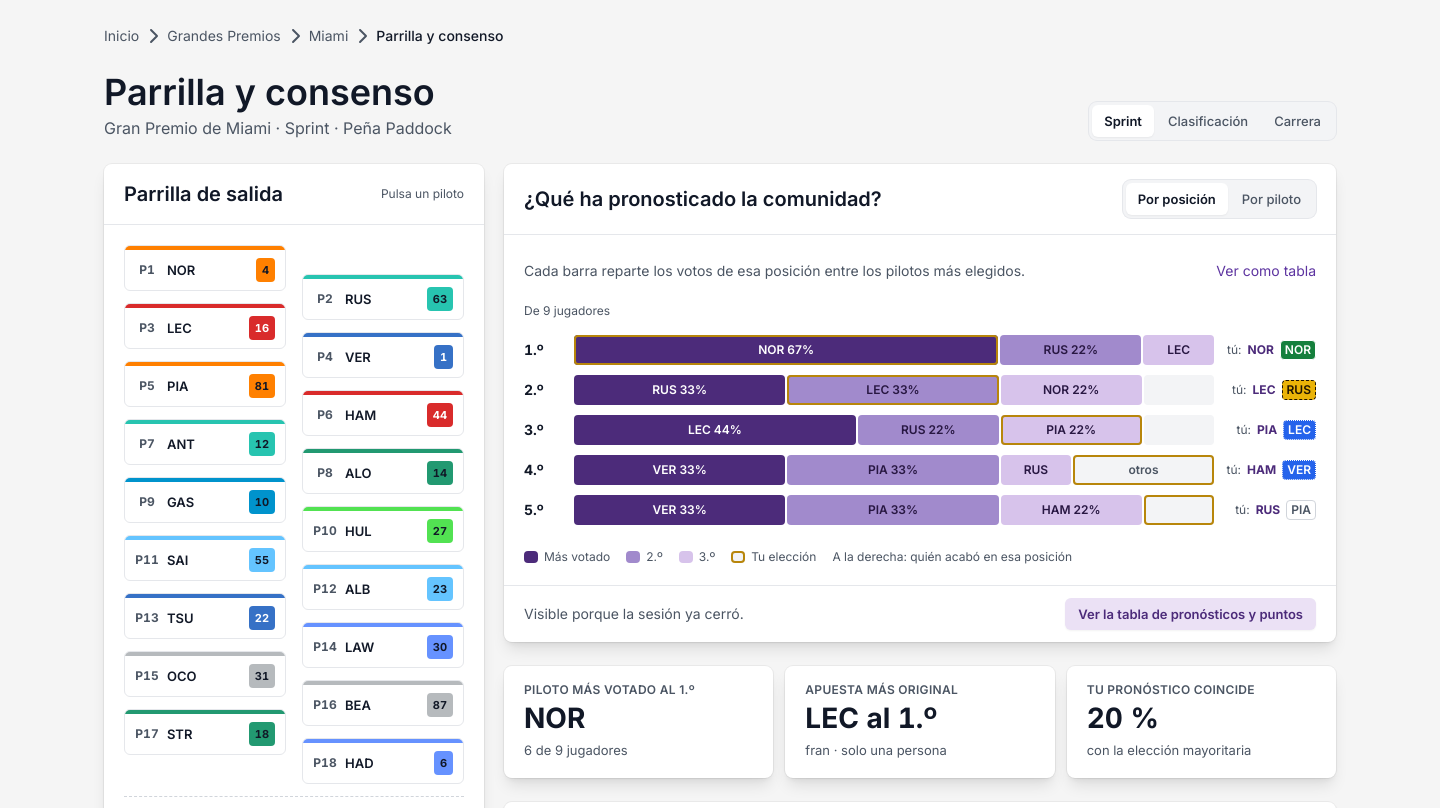
it: Parrilla y consenso (G4) › «Por piloto» defaults to the winner of the session
The width and height of the screenshot is (1440, 808).
Expected: the button with aria-label "P1 Lando Norris" is shown, [124,245,286,291]
Click the button "Por piloto".
click(1271, 199)  # box [1230,183,1313,215]
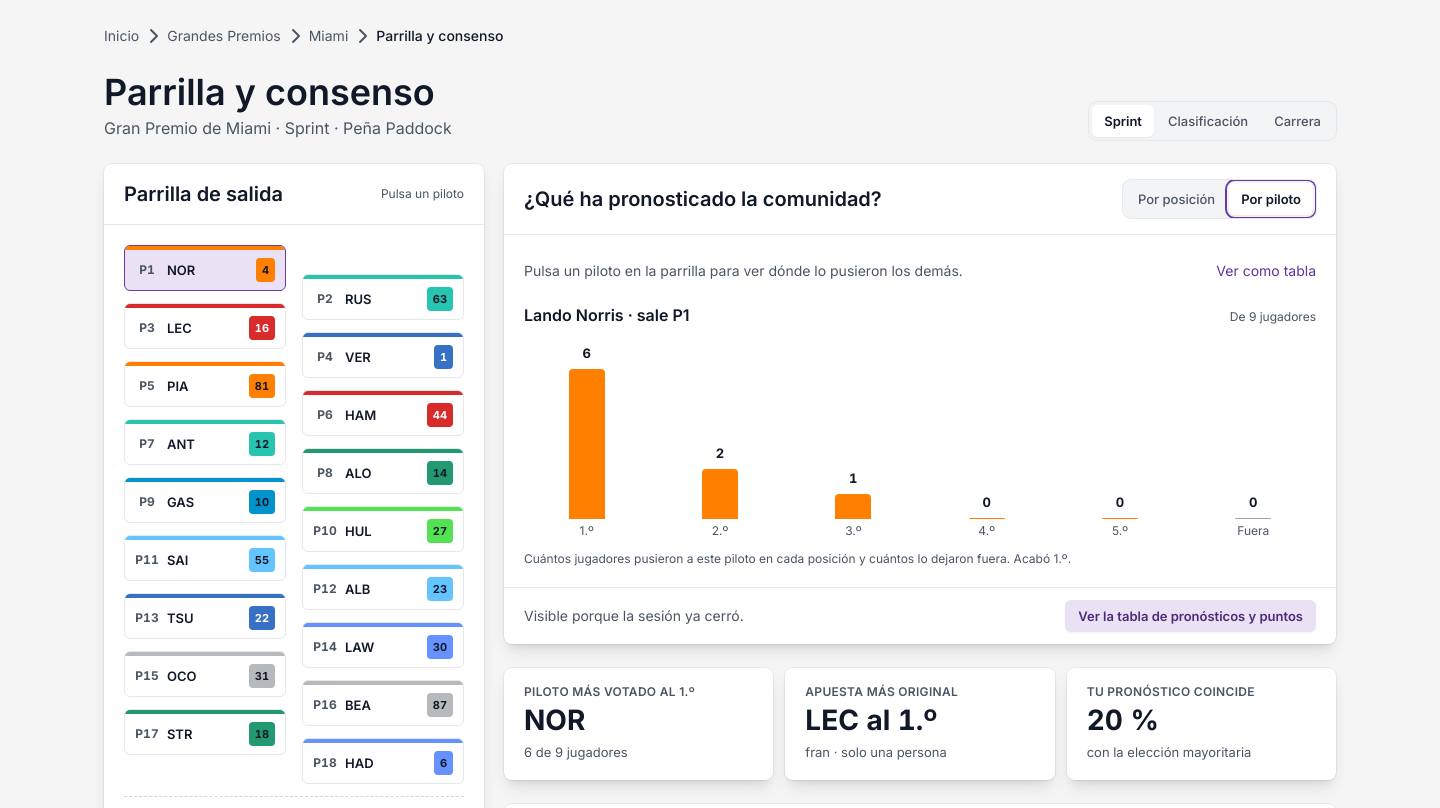
Expected: the text "Lando Norris · sale P1" is shown, [524,303,690,327]
